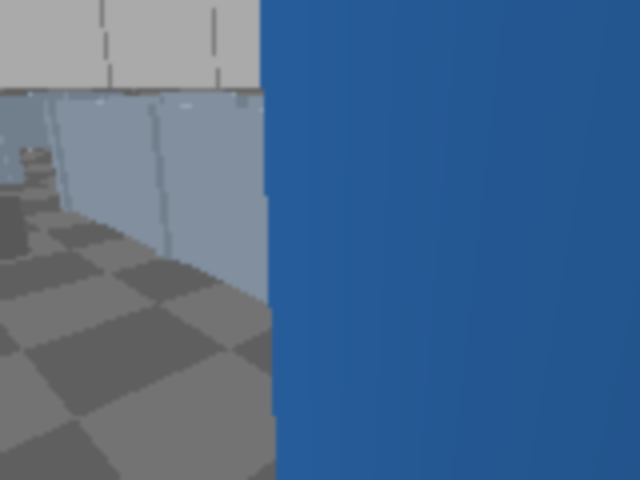obstacle: (0, 189, 31, 266)
person: (567, 0, 638, 378)
